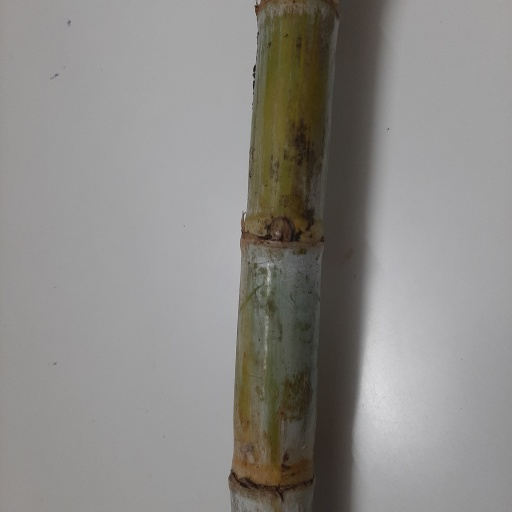Bud: (267, 216, 292, 242)
